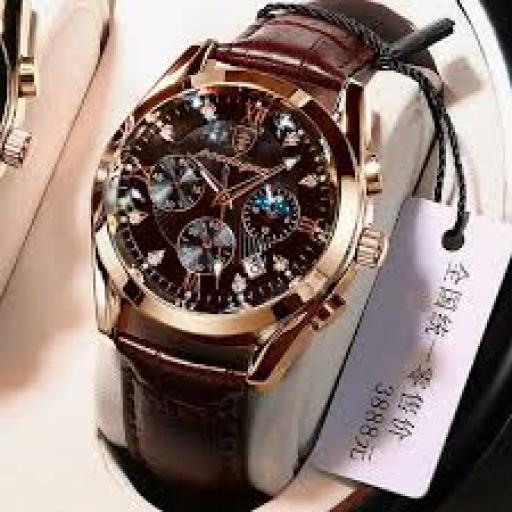KolSaati: (70, 0, 444, 498)
